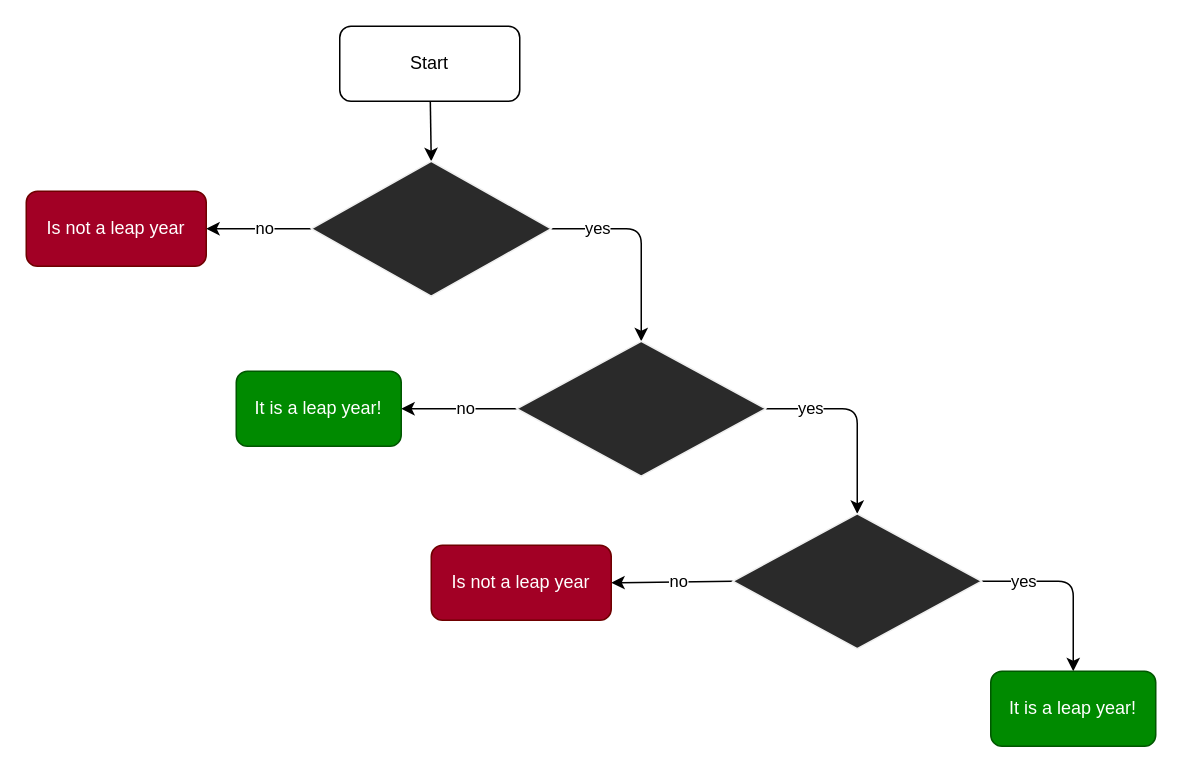
The diagram is 1182 pixels wide and 773 high, and some of its shapes have lost their labels. Here are the shapes that lost their labels. From the top down, the centre of each, then its label:
the point at 430,228: is it divisible by 4 with a remainder of 0?
the point at 640,408: is it divisible by 100 with a remainder of 0?
the point at 856,580: is it divisible by 400 with a remainder of 0?
